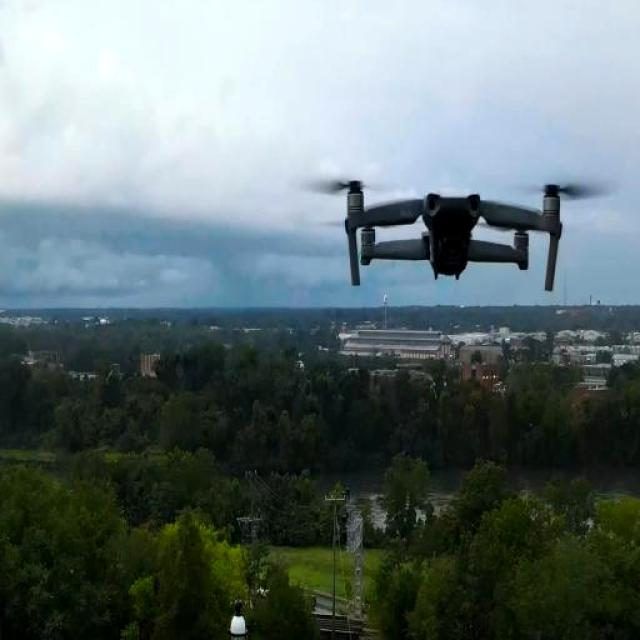bird: (280, 146, 624, 304)
